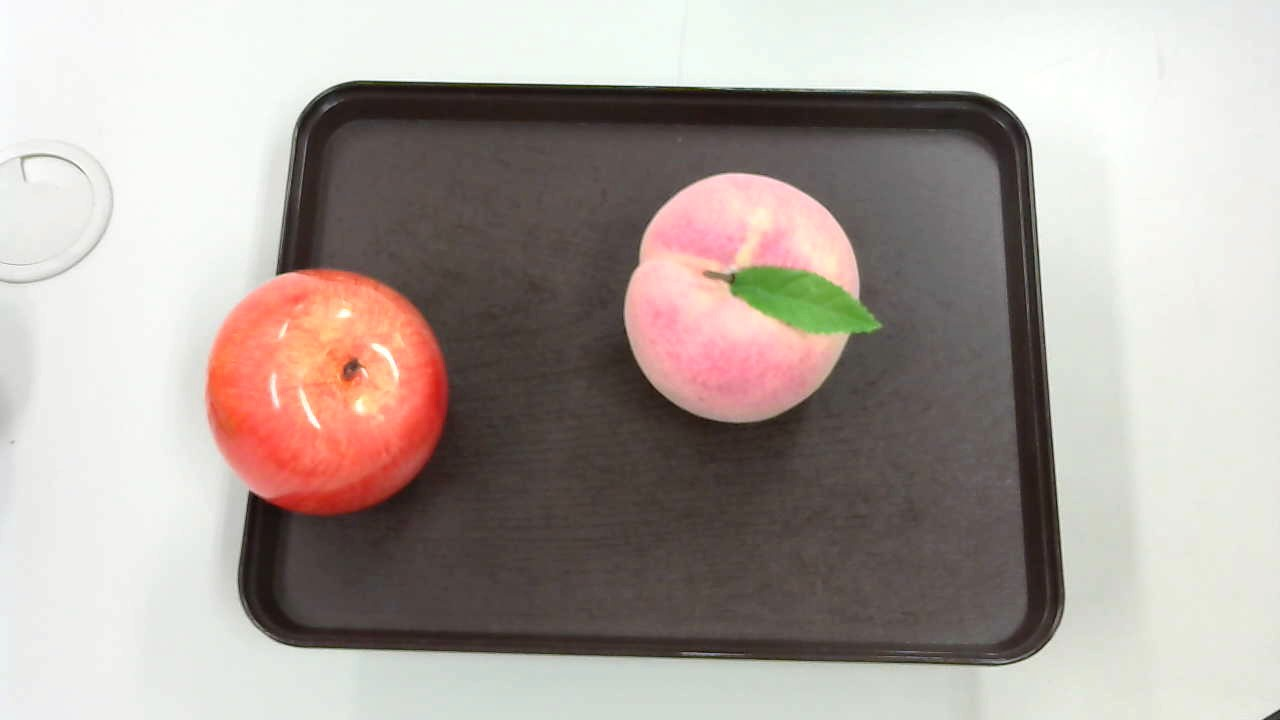peach: (611, 173, 889, 439)
red apple: (206, 269, 450, 512)
